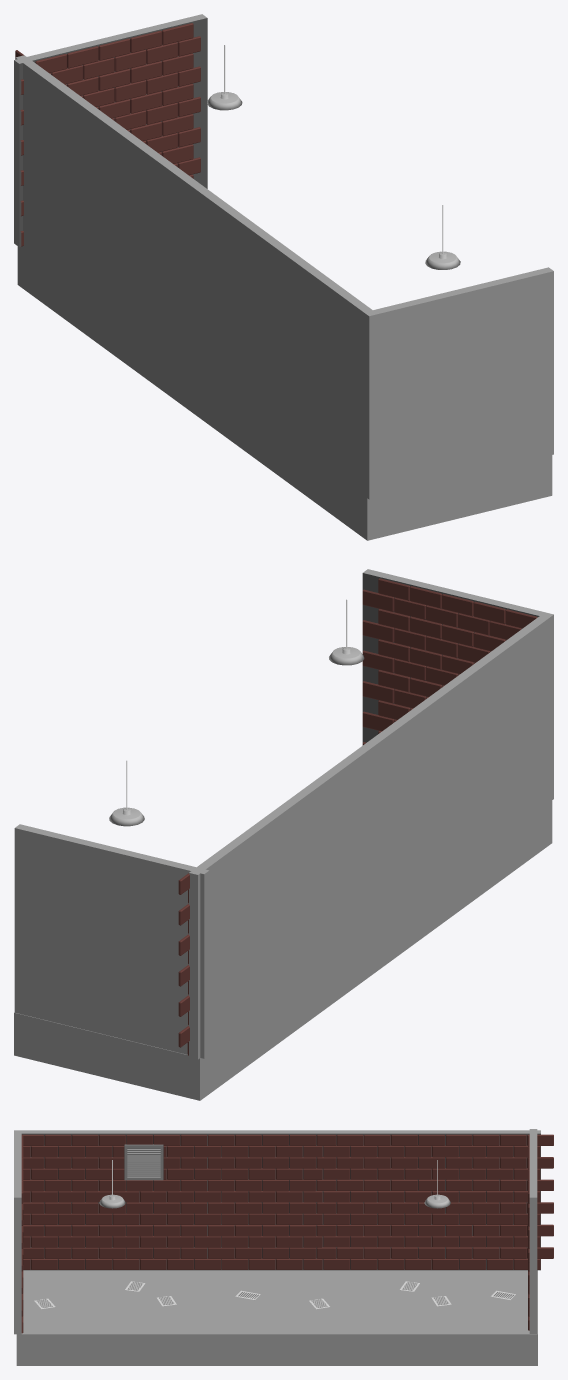
File: warehouse_1_stashed.fbx
The picture shows the model from 3 angles, top to bottom: view 1: azimuth 30°, elevation 25°; view 2: azimuth 150°, elevation 25°; view 3: azimuth 270°, elevation 25°; orthographic projection. The views are drawn at different scales.
Parts seen in each view (by area): view 1: Куб.002; view 2: Куб.002; view 3: Куб.002.
Part boxes in pixels (bbox=[...]): Куб.002: bbox=[14, 14, 553, 540]; Куб.002: bbox=[14, 569, 553, 1100]; Куб.002: bbox=[14, 1129, 553, 1365].
Bounding box in the file's own units: 521 × 671 × 1732.
